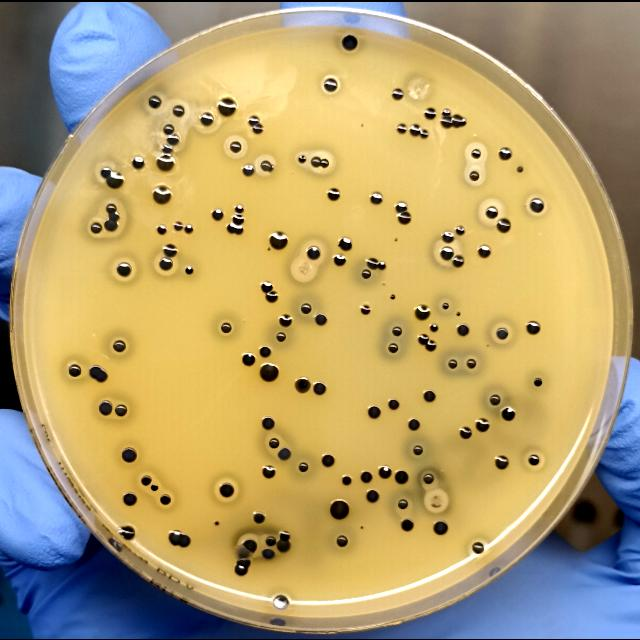colony: (114, 261, 135, 281), (225, 136, 246, 156), (155, 256, 175, 275), (260, 362, 279, 381), (152, 185, 171, 204), (330, 500, 349, 518), (156, 152, 175, 170), (218, 97, 236, 115), (169, 530, 189, 546), (270, 231, 288, 248), (106, 170, 124, 187), (249, 115, 264, 134), (89, 365, 106, 381), (235, 557, 250, 575), (272, 595, 289, 610), (119, 525, 135, 540), (219, 482, 235, 497), (415, 304, 430, 320), (342, 35, 358, 50), (226, 221, 244, 234), (121, 447, 136, 462), (295, 377, 310, 392), (496, 217, 511, 232), (529, 197, 544, 212), (242, 538, 258, 552), (434, 520, 448, 535), (475, 417, 490, 431), (306, 245, 320, 260), (260, 158, 275, 172), (324, 76, 338, 91), (122, 492, 138, 505), (395, 470, 409, 484), (501, 406, 515, 420), (526, 320, 540, 334), (200, 111, 214, 125), (440, 246, 454, 260), (99, 400, 112, 415), (162, 244, 178, 256), (495, 455, 509, 468), (339, 236, 352, 250), (104, 218, 118, 231), (398, 210, 411, 224), (485, 205, 499, 218), (499, 146, 512, 160), (451, 114, 466, 126), (278, 447, 291, 460), (252, 511, 265, 524), (401, 518, 414, 531), (242, 352, 255, 365), (496, 327, 509, 340), (211, 207, 224, 220), (276, 540, 290, 552), (321, 454, 335, 466), (314, 381, 326, 395), (180, 532, 191, 547), (262, 465, 275, 477), (262, 416, 275, 428), (472, 541, 484, 554), (366, 490, 379, 502), (379, 465, 391, 478), (459, 426, 472, 438), (368, 405, 380, 418), (115, 404, 128, 416), (220, 321, 232, 334), (279, 314, 292, 326), (265, 290, 278, 302), (328, 187, 340, 200), (370, 191, 382, 204), (90, 221, 102, 234), (242, 164, 255, 176), (132, 156, 145, 168), (478, 245, 491, 257), (441, 230, 454, 242), (261, 547, 275, 558), (112, 340, 126, 351), (166, 134, 180, 145), (422, 472, 434, 484), (408, 418, 420, 430), (424, 390, 436, 402), (69, 364, 81, 376), (149, 95, 161, 107), (315, 314, 328, 325), (366, 257, 379, 268), (172, 105, 185, 116), (395, 201, 408, 212), (336, 535, 348, 546), (389, 398, 400, 410), (528, 454, 540, 465), (259, 346, 271, 357), (260, 281, 272, 292), (334, 254, 346, 265), (452, 255, 464, 266), (392, 87, 404, 98), (410, 124, 421, 136), (424, 107, 436, 118), (440, 116, 452, 127), (232, 214, 244, 225), (160, 494, 171, 505), (361, 471, 372, 482), (490, 394, 501, 405), (360, 304, 371, 315), (458, 324, 469, 335), (418, 334, 429, 345), (425, 340, 436, 351), (100, 166, 111, 177), (469, 170, 480, 181), (412, 445, 424, 455), (301, 302, 311, 314), (311, 155, 321, 167), (396, 122, 408, 132), (269, 437, 279, 448), (265, 536, 276, 546), (279, 531, 290, 541), (388, 342, 399, 352), (391, 326, 402, 336), (109, 211, 120, 221), (466, 357, 476, 368), (471, 147, 481, 158), (141, 475, 151, 485), (341, 475, 351, 485), (398, 498, 408, 508), (276, 331, 286, 341), (106, 204, 116, 214), (361, 268, 371, 278), (448, 358, 458, 368), (156, 224, 166, 234), (164, 124, 174, 134), (455, 225, 465, 235), (299, 462, 309, 471), (174, 221, 184, 230), (320, 157, 329, 167), (441, 107, 451, 116), (161, 144, 172, 152), (185, 265, 194, 274), (420, 128, 429, 137), (184, 224, 194, 232), (534, 377, 542, 386), (378, 261, 386, 270), (235, 204, 244, 212), (298, 154, 306, 162), (151, 484, 159, 491), (430, 324, 438, 331), (516, 165, 524, 172), (442, 302, 449, 308), (390, 294, 395, 298), (214, 521, 219, 525), (456, 311, 460, 315)
